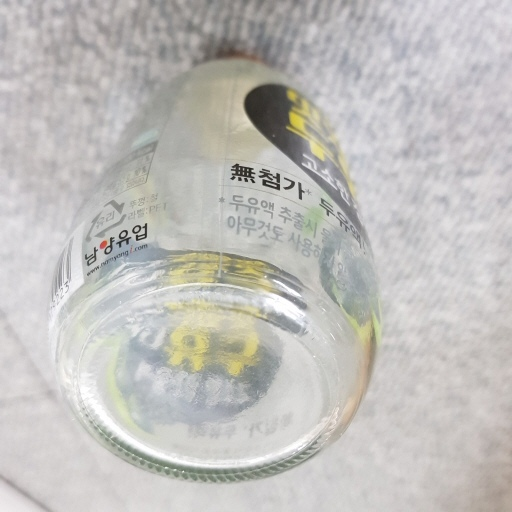Glass_4: (47, 54, 381, 470)
